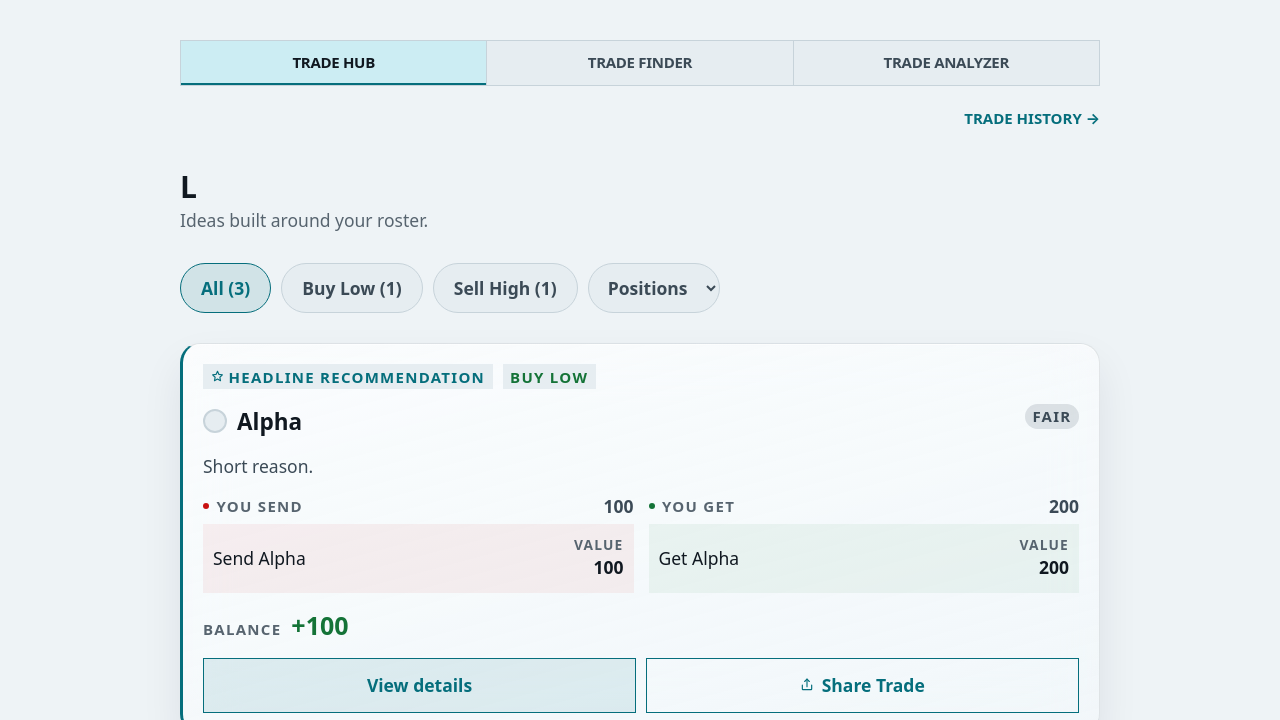
Test case: TradeHubContent filtering and states › tags cards from engine category and impact tag, and filters by chip and position
Check: the text "Headline Recommendation" is shown, box [203, 364, 493, 389]
Click the button "Buy Low (1)" at (352, 288), box [281, 263, 423, 313]
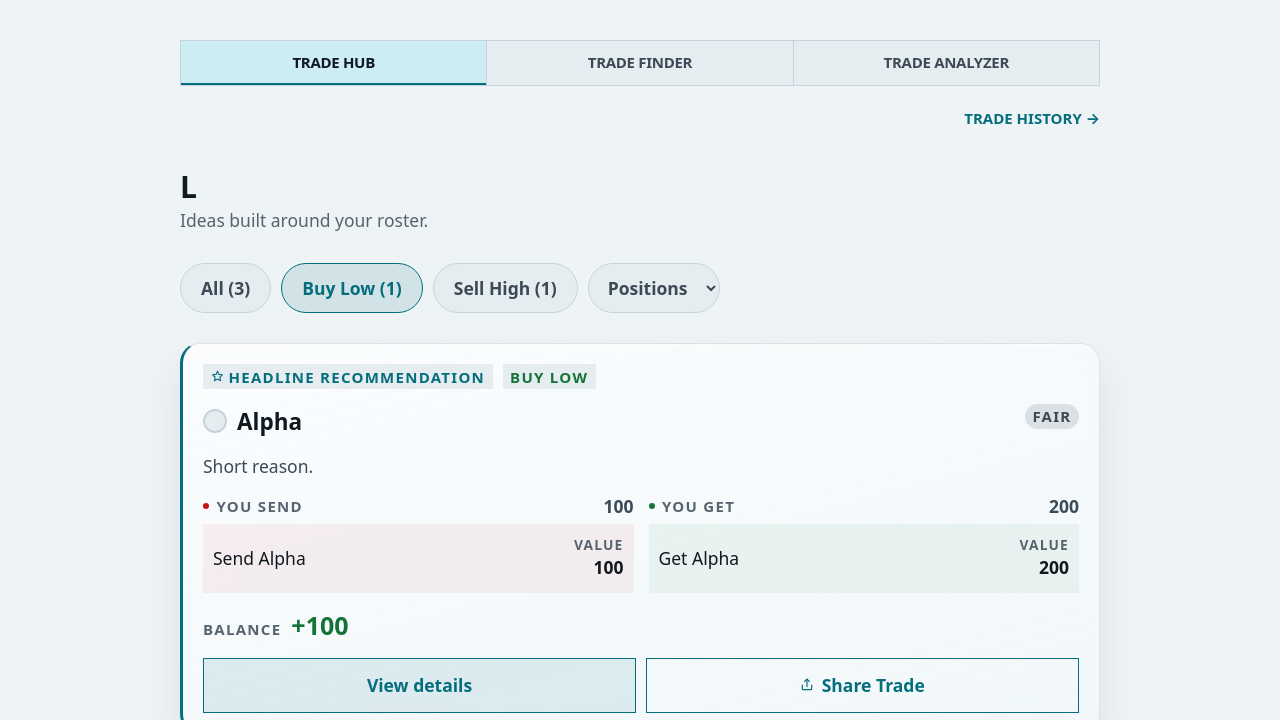
Check: the heading "Alpha" is shown, box [237, 404, 302, 439]
Click the button "All (3)" at (226, 288), box [180, 263, 271, 313]
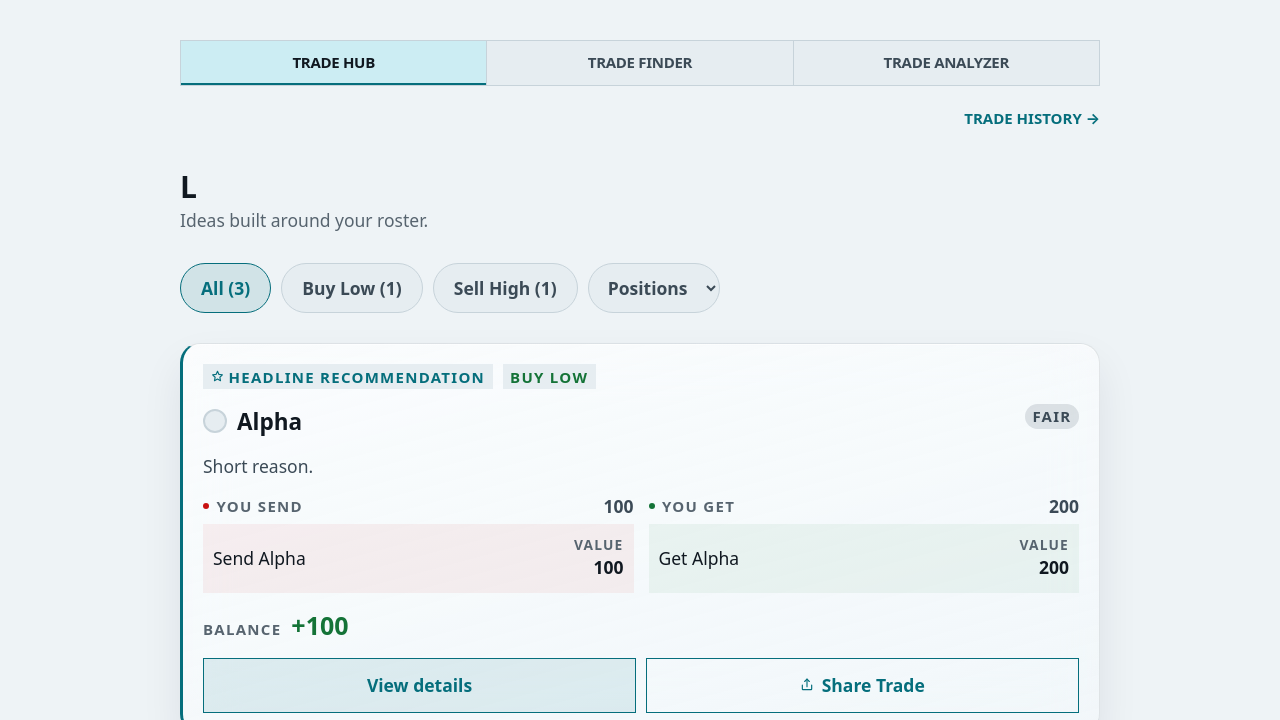
Select "QB" in the dropdown named "Positions" at (654, 288), box [588, 263, 720, 313]
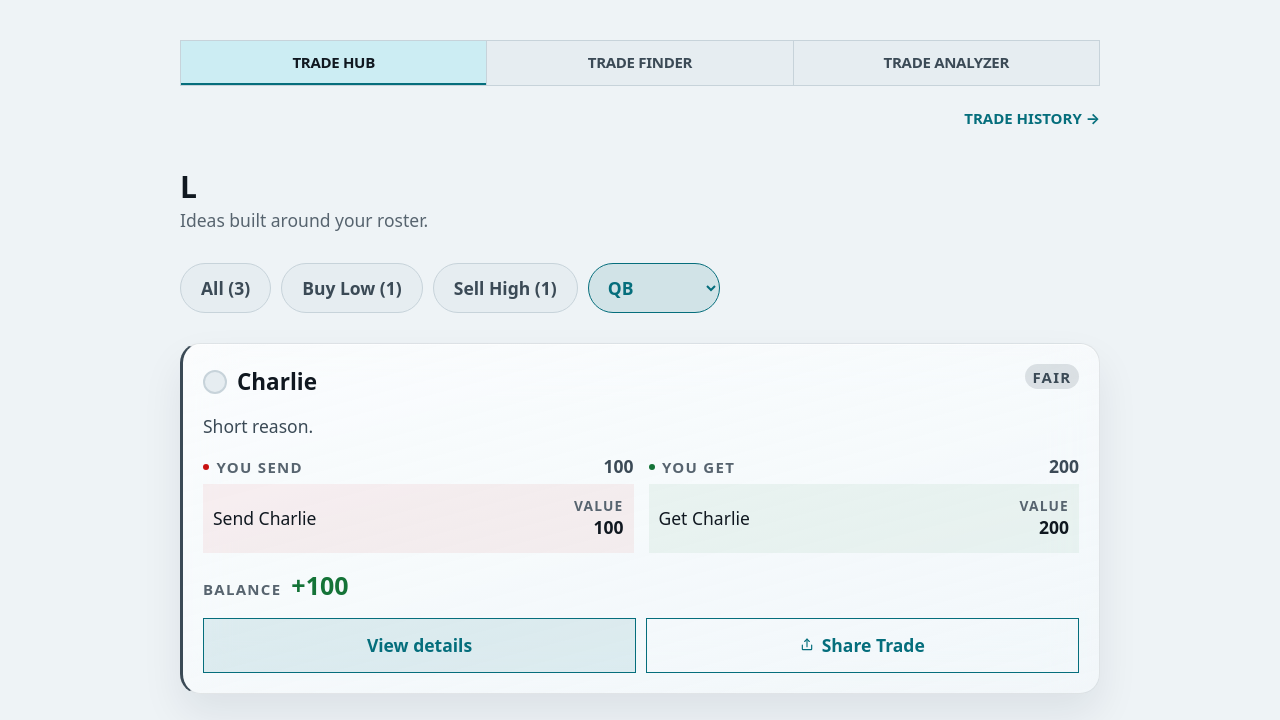
Check: the heading "Charlie" is shown, box [237, 364, 317, 399]
Check: the heading "Alpha" is gone
